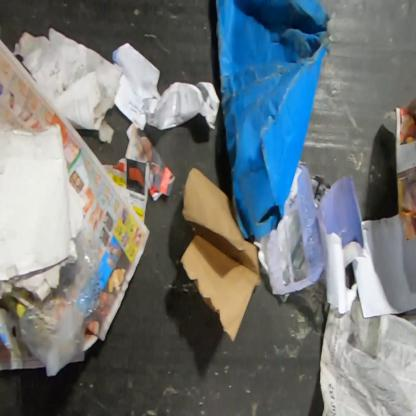cardboard: (214, 0, 335, 244), (0, 121, 86, 302), (178, 165, 263, 345)
soft_plastic: (15, 220, 102, 378)
